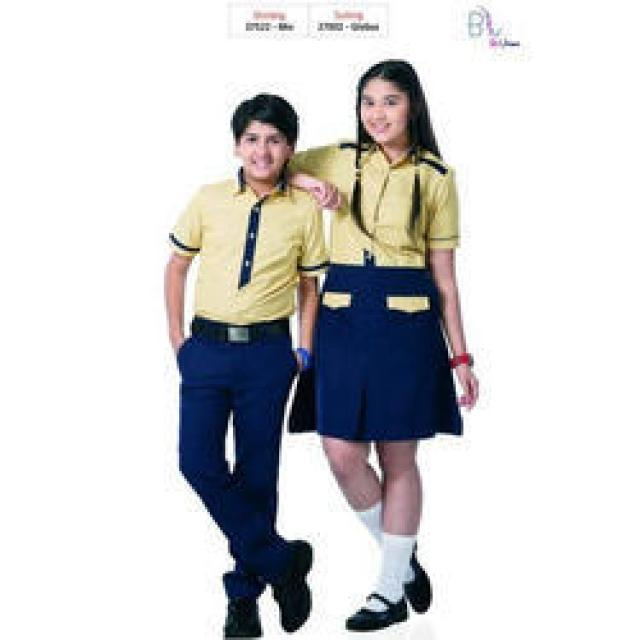child: (302, 54, 479, 632), (154, 90, 330, 638)
